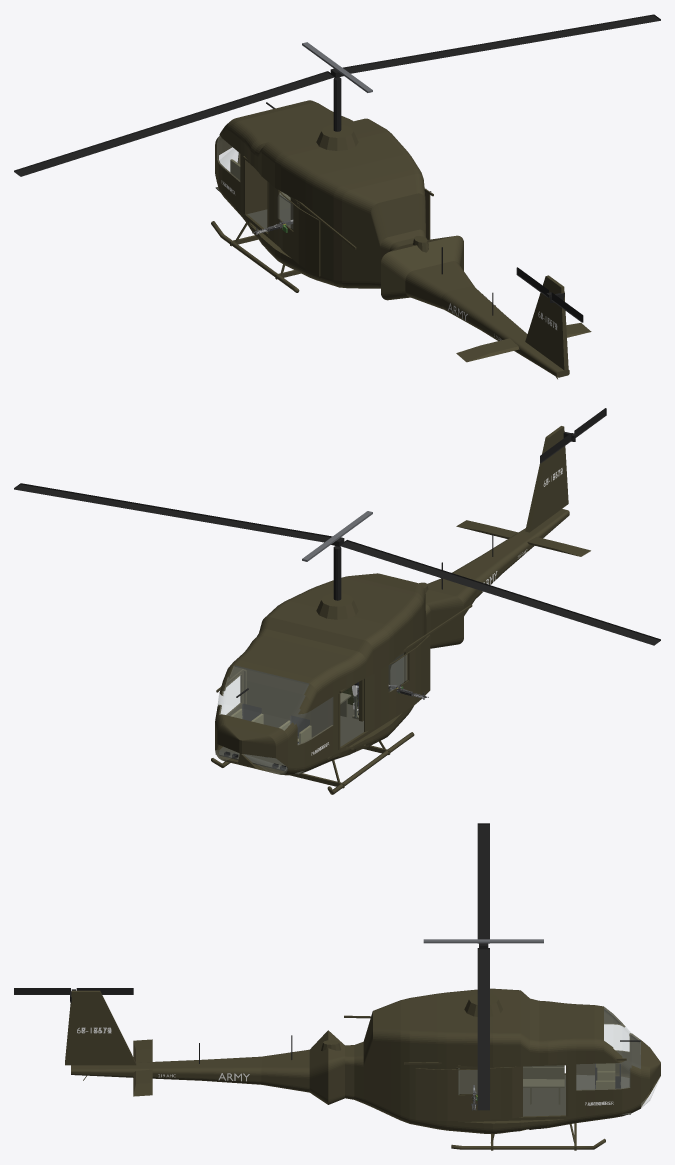
File: huey_v3.glb
3 renders of one model, top to bottom at view 1: azimuth 30°, elevation 25°; view 2: azimuth 150°, elevation 25°; view 3: azimuth 270°, elevation 25°, orthographic. The views are drawn at different scales.
Parts seen in each view (by area): view 1: fuselage_fwd, fuselage_aft, New_Blade_2, door_r, tail_fin, Elevator, mast_fairing, glass_cockpit_r, New_TailBlade_1, skid_rail_r; view 2: fuselage_fwd, New_Blade_2, glass_greenhouse_upper, door_r, fuselage_aft, tail_fin, Elevator, glass_cockpit_r, mast_fairing, floor_cabin, New_TailBlade_1; view 3: fuselage_fwd, fuselage_aft, door_l, tail_fin, New_Blade_2, glass_cockpit_l, floor_cabin, glass_greenhouse_upper, Center Bench, Elevator, New_TailBlade_1, door_frame_l (+4 smaller).
Boxes of the visible parts, left/top/right/bottom form: fuselage_fwd: left=215, top=100, right=452, bottom=288; fuselage_aft: left=381, top=235, right=569, bottom=377; New_Blade_2: left=14, top=14, right=660, bottom=176; door_r: left=267, top=181, right=320, bottom=276; tail_fin: left=525, top=275, right=568, bottom=370; Elevator: left=456, top=323, right=591, bottom=362; mast_fairing: left=316, top=125, right=358, bottom=150; glass_cockpit_r: left=217, top=135, right=239, bottom=181; New_TailBlade_1: left=516, top=267, right=583, bottom=322; skid_rail_r: left=211, top=221, right=299, bottom=292; fuselage_fwd: left=215, top=573, right=463, bottom=775; New_Blade_2: left=14, top=483, right=660, bottom=645; glass_greenhouse_upper: left=219, top=665, right=308, bottom=730; door_r: left=364, top=635, right=430, bottom=731; fuselage_aft: left=427, top=509, right=569, bottom=615; tail_fin: left=525, top=426, right=568, bottom=532; Elevator: left=456, top=520, right=590, bottom=556; glass_cockpit_r: left=294, top=697, right=332, bottom=744; mast_fairing: left=316, top=593, right=358, bottom=619; floor_cabin: left=340, top=704, right=363, bottom=746; New_TailBlade_1: left=540, top=408, right=606, bottom=463; fuselage_fwd: left=328, top=988, right=660, bottom=1134; fuselage_aft: left=71, top=1030, right=328, bottom=1104; door_l: left=415, top=1066, right=522, bottom=1120; tail_fin: left=65, top=990, right=136, bottom=1065; New_Blade_2: left=477, top=823, right=489, bottom=1110; glass_cockpit_l: left=576, top=1061, right=629, bottom=1090; floor_cabin: left=523, top=1075, right=565, bottom=1116; glass_greenhouse_upper: left=604, top=1007, right=640, bottom=1068; Center Bench: left=504, top=1065, right=564, bottom=1104; Elevator: left=133, top=1039, right=152, bottom=1096; New_TailBlade_1: left=14, top=988, right=133, bottom=994; door_frame_l: left=456, top=1063, right=568, bottom=1122.
Bounding box in the file's own units: 14.63 × 4.41 × 14.
Materials: 32 (1 with a texture image).
